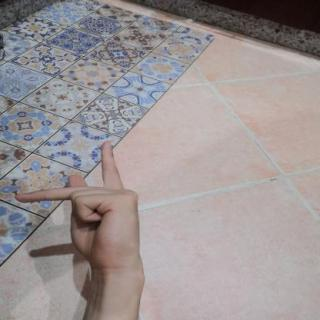DHAA: (8, 133, 152, 275)
